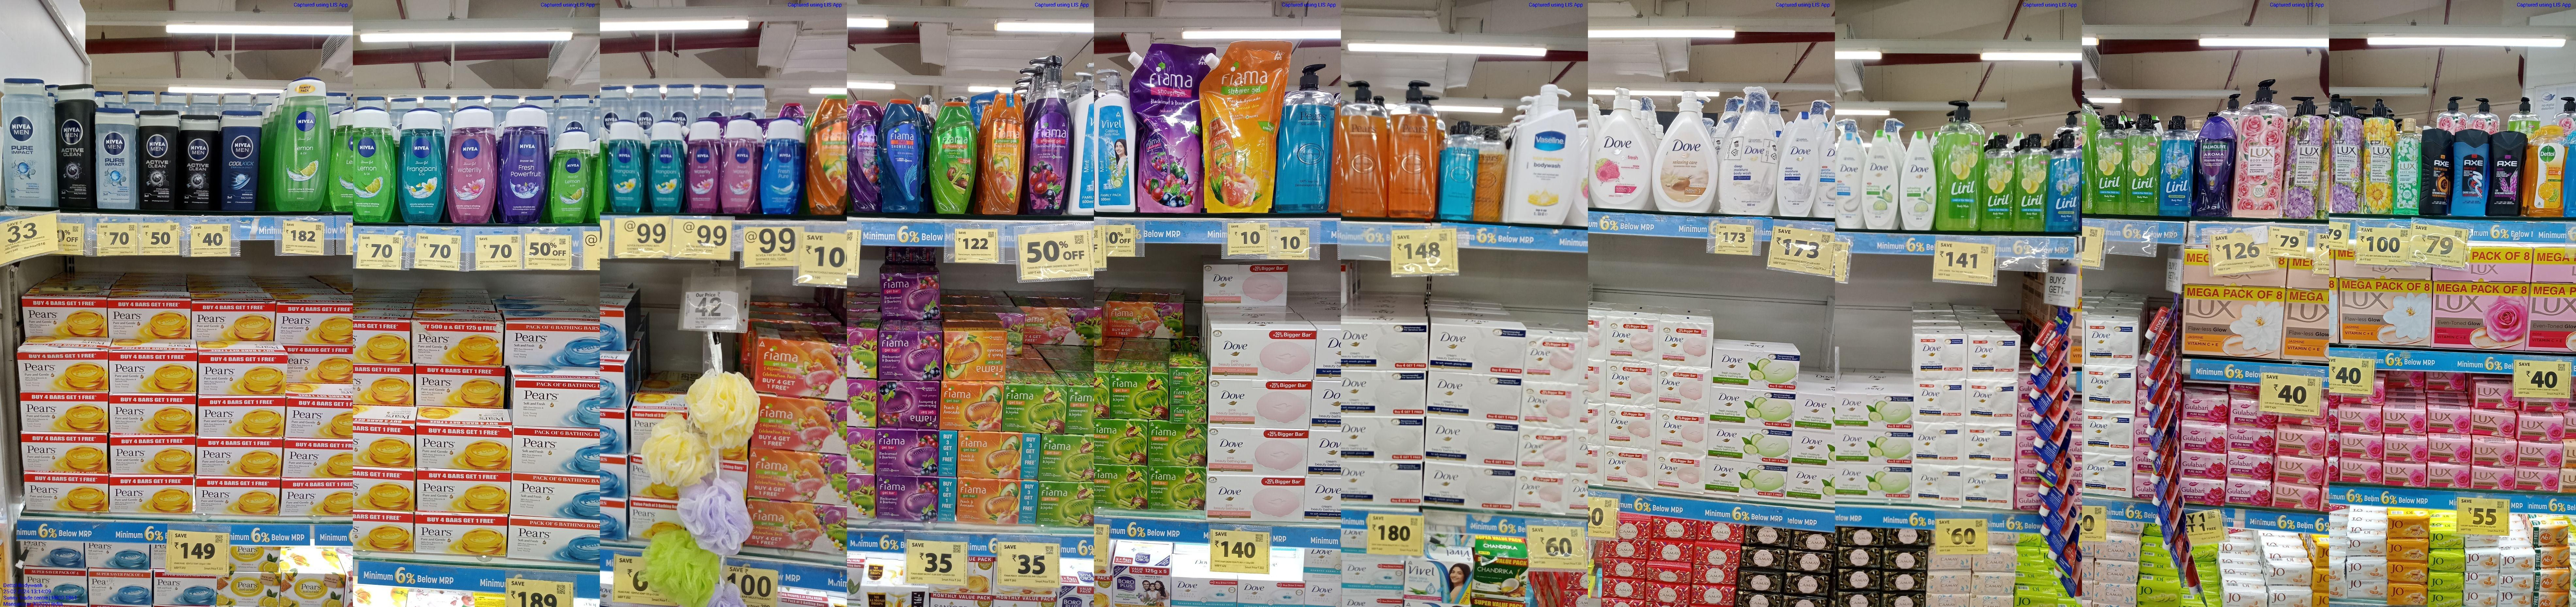Fiama_Shower_Gel_Lemongrass_and_Jojoba_250ML: (930, 102, 974, 215)
Fiama_Shower_Gel_Peach_and_Avocado_250ML: (808, 94, 848, 217)
Liril_Cooling_Mint_Body_Wash_250ML: (1778, 112, 1819, 217), (1441, 120, 1480, 220)
Nivea_Shower_Gel_Frangipani_and_Oil_250ML: (399, 108, 447, 223)
Nivea_Shower_Gel_Fresh_Powerfruit_250ML: (499, 107, 549, 223), (931, 102, 938, 108)
Nivea_Shower_Gel_Lemon_and_Oil_250ML: (276, 77, 329, 212), (352, 107, 394, 223)
Nivea_Shower_Gel_Waterlily_and_Oil_250ML: (450, 107, 496, 223)
